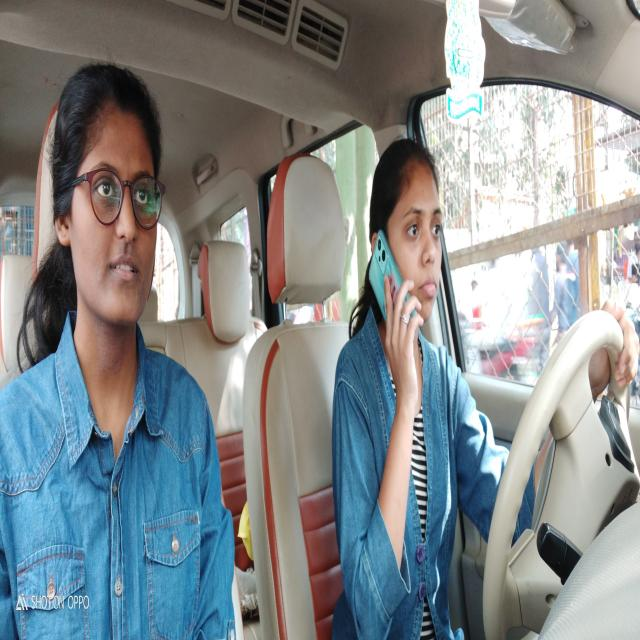mobile: (366, 228, 416, 357)
person: (42, 44, 177, 380), (364, 128, 453, 358)
